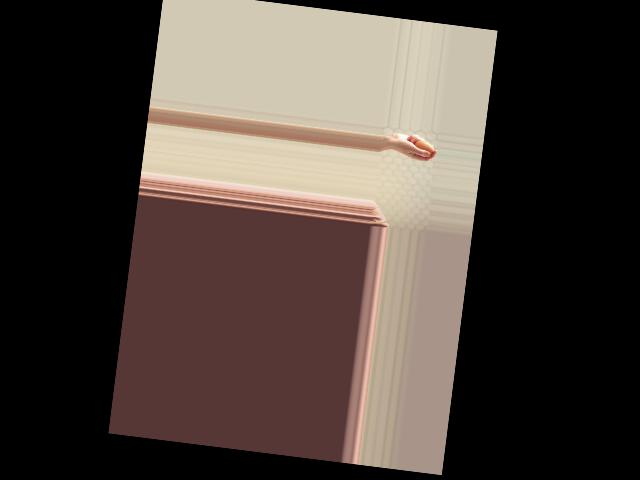egg: (413, 138, 434, 156)
